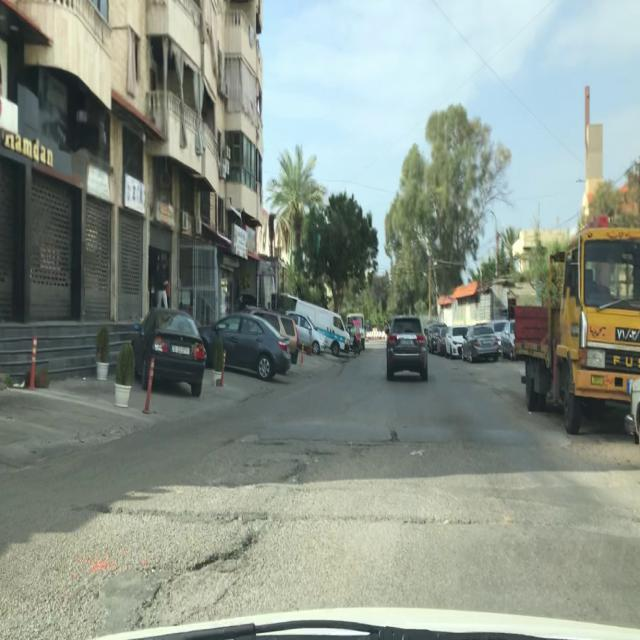Pothole: (184, 528, 259, 576), (302, 449, 336, 458), (346, 443, 388, 449)
